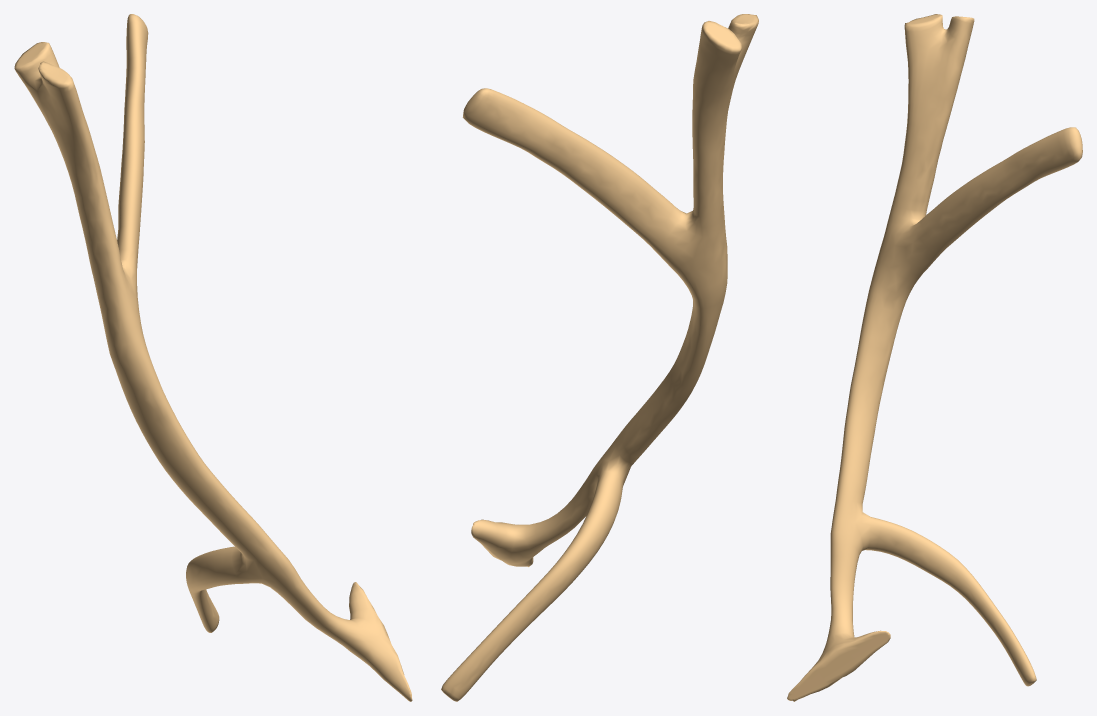
3 views of the same model, side by side, from view 1: azimuth 30°, elevation 25°; view 2: azimuth 150°, elevation 25°; view 3: azimuth 270°, elevation 25° (orthographic). The views are drawn at different scales.
Parts seen in each view (by area): view 1: N_C6.obj; view 2: N_C6.obj; view 3: N_C6.obj.
Boxes of the visible parts, x1,y1,x2,y2 form: N_C6.obj: (14,14,412,701); N_C6.obj: (441,14,758,701); N_C6.obj: (787,14,1082,701).
Size of the model in its own units: 0.0011 by 0.00235 by 0.00108.
